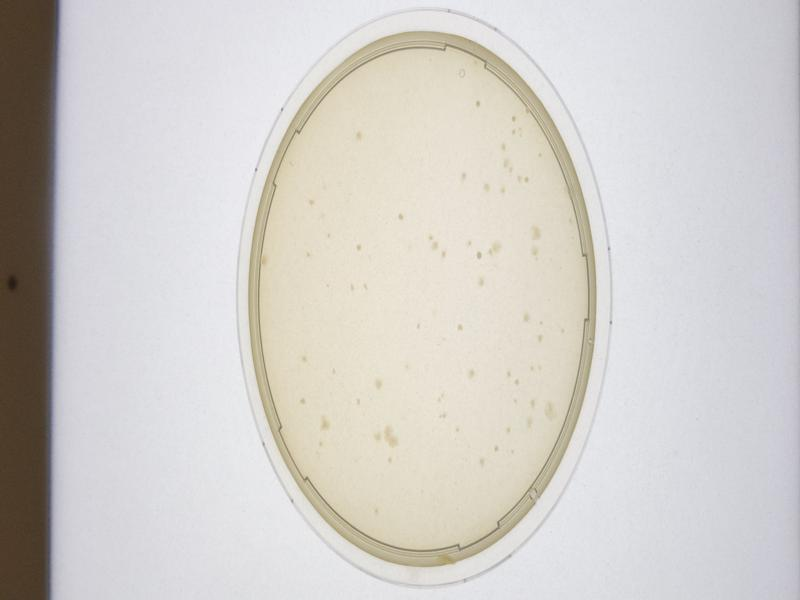colony: (351, 128, 368, 142), (393, 210, 408, 224), (352, 241, 368, 254), (305, 196, 320, 208), (490, 442, 502, 456), (295, 393, 307, 406), (453, 321, 465, 333), (469, 97, 482, 108), (474, 249, 484, 260)
